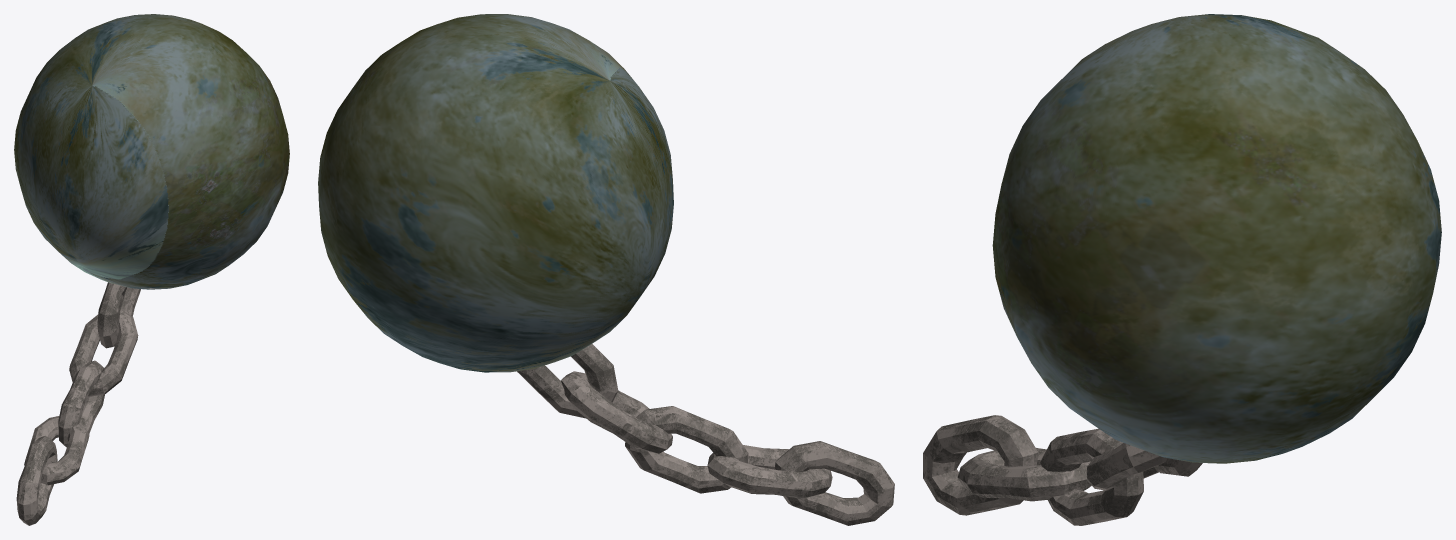
Rendered from Planeta1.obj.
3 renders of one model, left to right at view 1: azimuth 30°, elevation 25°; view 2: azimuth 150°, elevation 25°; view 3: azimuth 270°, elevation 25°, orthographic. The views are drawn at different scales.
Visible parts, largest first — view 1: pTorus8; view 2: pTorus8; view 3: pTorus8.
Boxes of the visible parts, <box> form: pTorus8: <box>14,14,289,525</box>; pTorus8: <box>318,14,894,525</box>; pTorus8: <box>923,14,1441,525</box>.
Bounding box in the file's own units: 6.94 × 7.61 × 5.64.
1 material, 1 textured.
